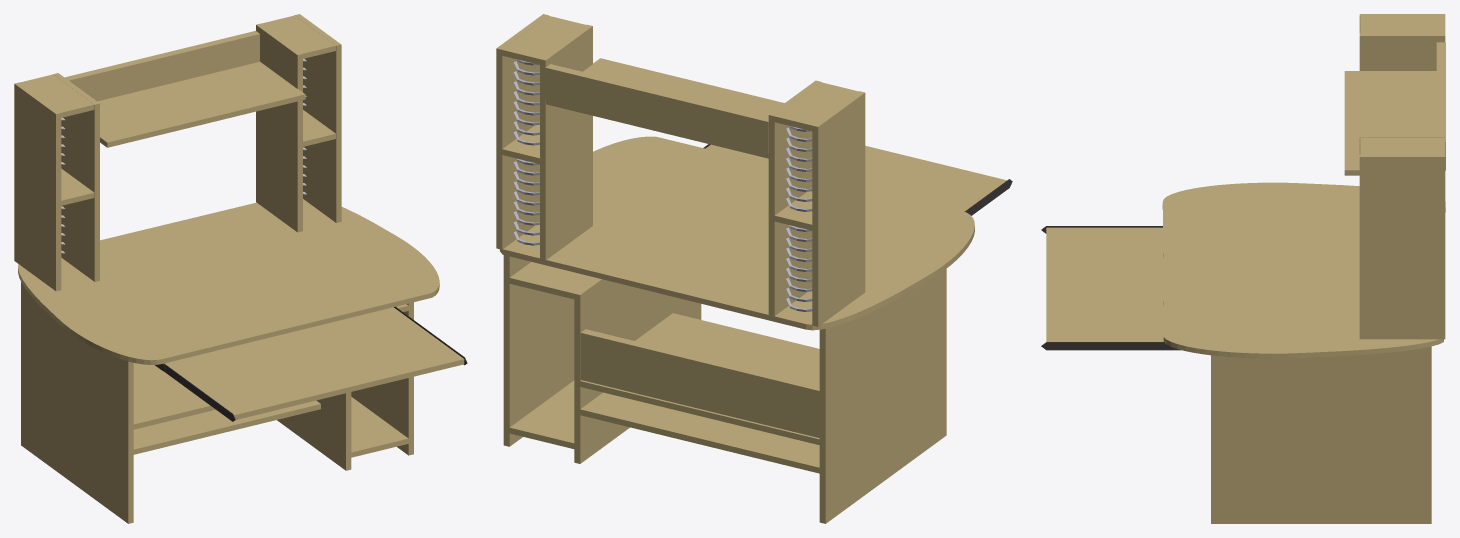
Rendered from sh-contrib-pcstul.glb.
The picture shows the model from 3 angles, left to right: view 1: azimuth 30°, elevation 25°; view 2: azimuth 150°, elevation 25°; view 3: azimuth 270°, elevation 25°; orthographic projection. The views are drawn at different scales.
Parts seen in each view (by area): view 1: Cube.006_Cube.007_Woo_Cube.006_Cube.007_Woo_Wood, Cube.019_Cube.023_bla_Cube.019_Cube.023_bla_black_metal; view 2: Cube.006_Cube.007_Woo_Cube.006_Cube.007_Woo_Wood, Circle.002_Circle_Circle.002_Circle_gray_plastic; view 3: Cube.006_Cube.007_Woo_Cube.006_Cube.007_Woo_Wood, Cube.019_Cube.023_bla_Cube.019_Cube.023_bla_black_metal.
Boxes of the visible parts, x1,y1,x2,y2 form: Cube.006_Cube.007_Woo_Cube.006_Cube.007_Woo_Wood: [14, 14, 464, 523]; Cube.019_Cube.023_bla_Cube.019_Cube.023_bla_black_metal: [155, 306, 467, 421]; Cube.006_Cube.007_Woo_Cube.006_Cube.007_Woo_Wood: [496, 14, 1006, 523]; Circle.002_Circle_Circle.002_Circle_gray_plastic: [513, 59, 812, 311]; Cube.006_Cube.007_Woo_Cube.006_Cube.007_Woo_Wood: [1046, 14, 1445, 523]; Cube.019_Cube.023_bla_Cube.019_Cube.023_bla_black_metal: [1041, 226, 1181, 350].
Bounding box in the file's own units: 1 × 1 × 1.
